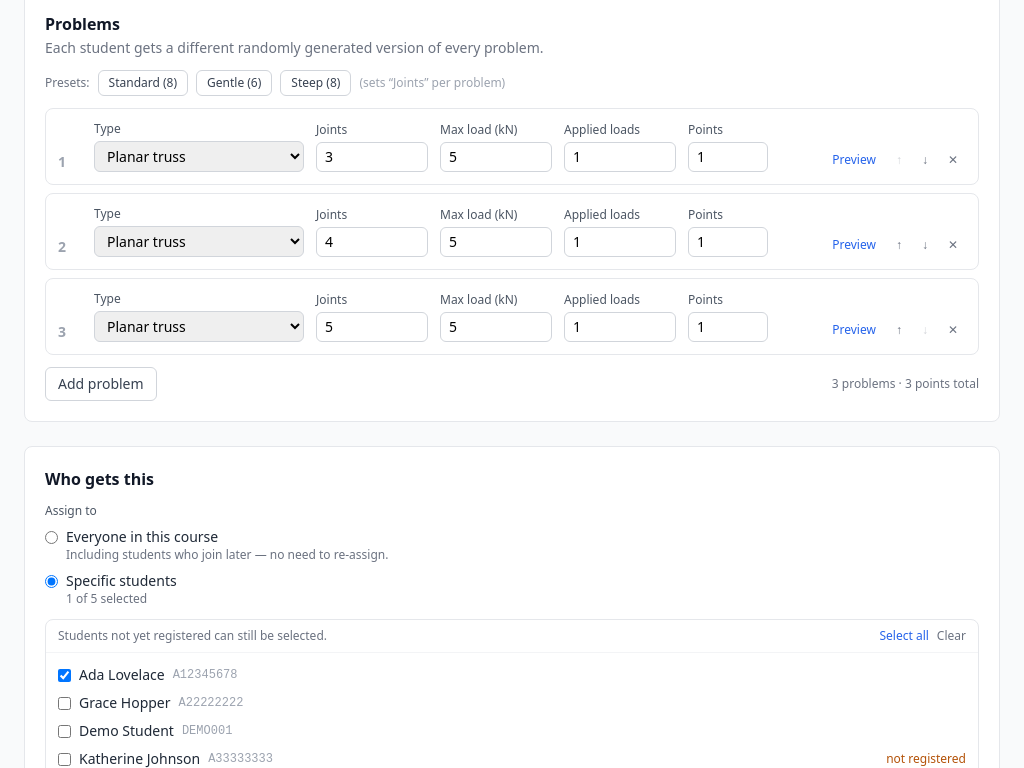
it: assignment builder › adds, reorders and removes a problem slot
(page scrolled)
Expected: the text "3 problems · 3 points total" is shown, [832,376,979,392]
Click the button "Add problem" at (101, 384), box [45,367,157,401]
(page scrolled)
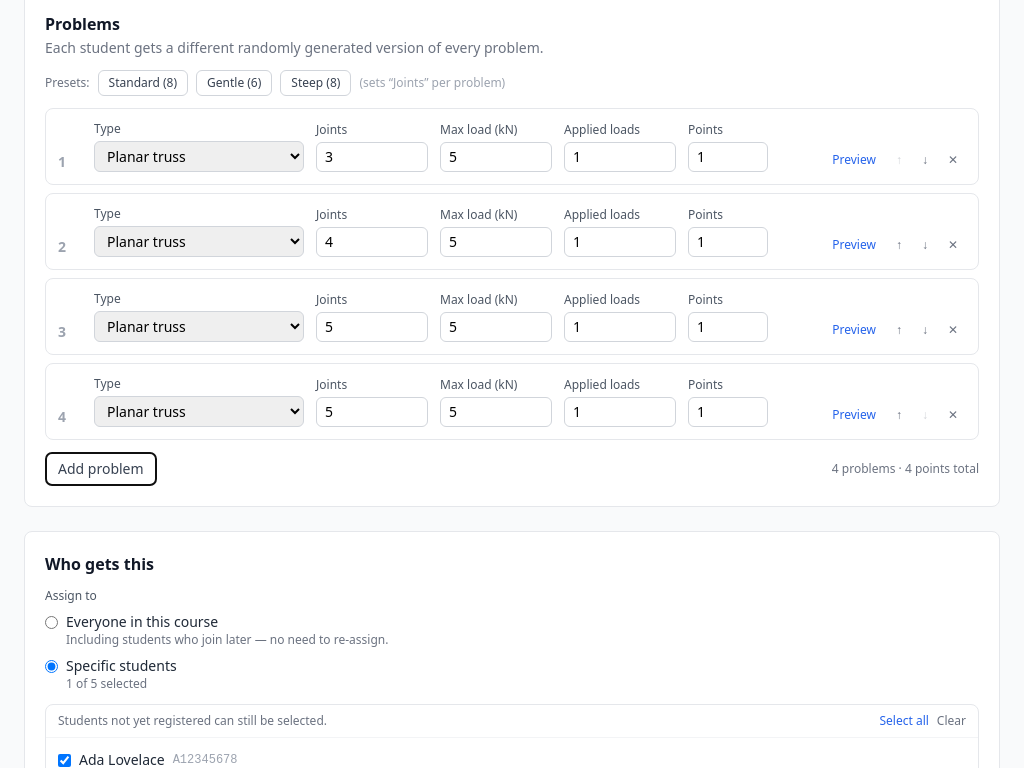
Now the text "4 problems · 4 points total" is shown, box [832,461,979,477]
# Distinguish slot 1 from slot 2 before moving.
Replace the text in the 1st number field labelled "Joints" with "7" at (372, 157), box [316,142,428,172]
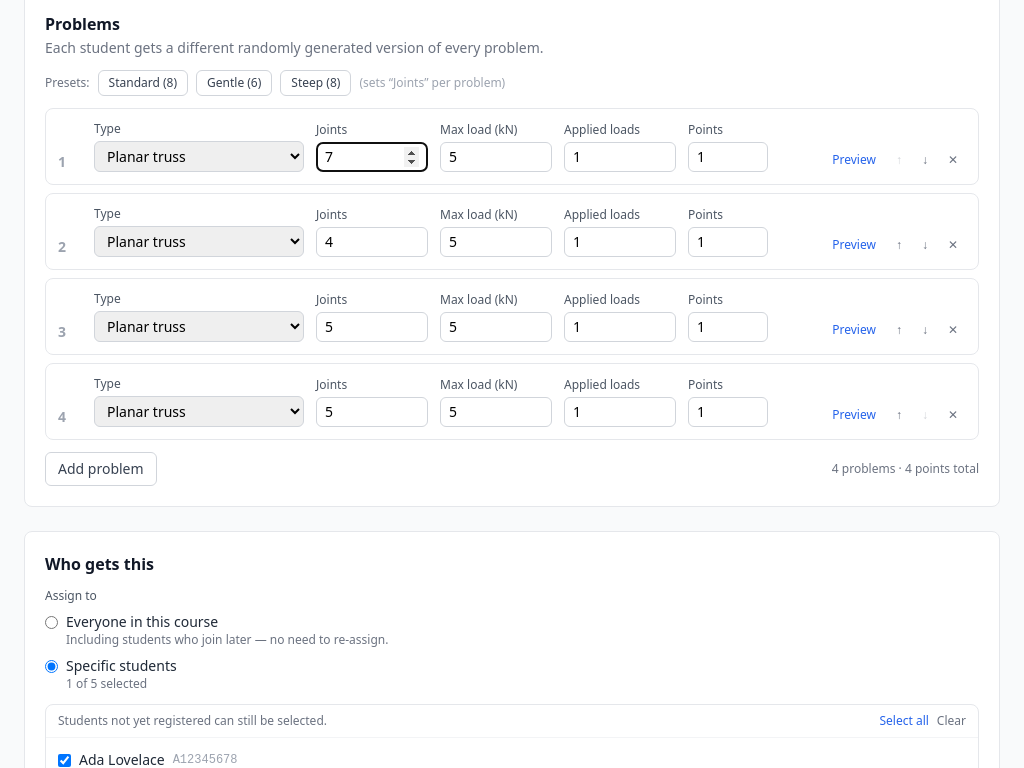
Click the button named "move problem 1 down" at (925, 160), box [914,148,936,172]
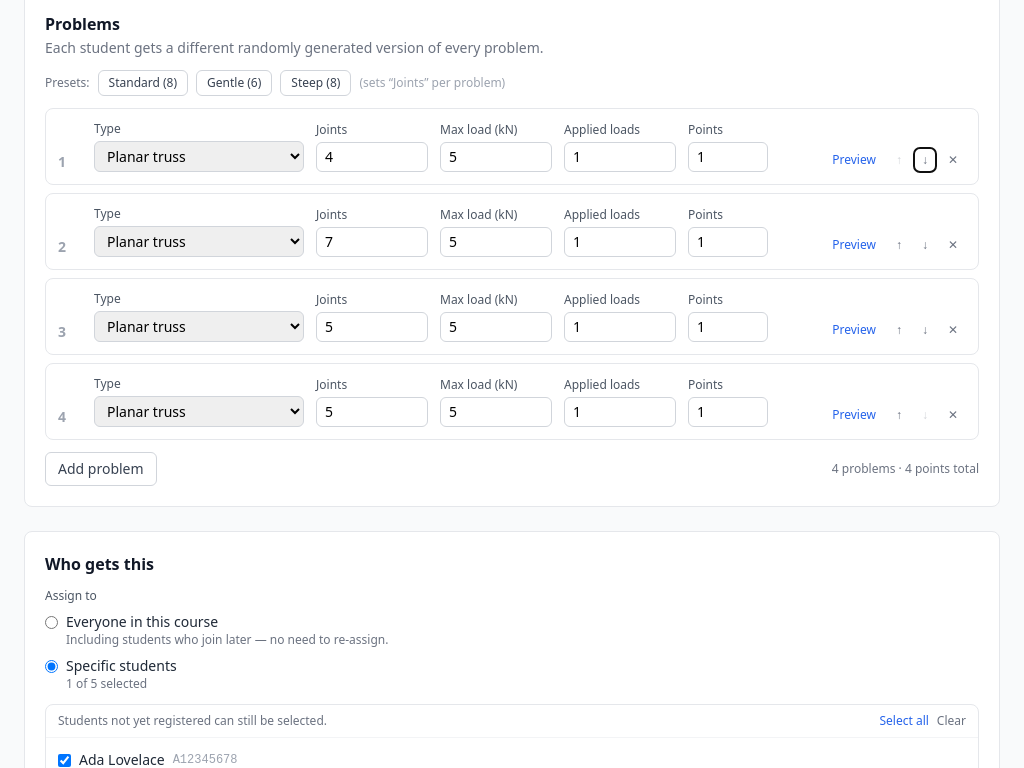
Click the button named "remove problem 4" at (953, 415), box [940,403,966,427]
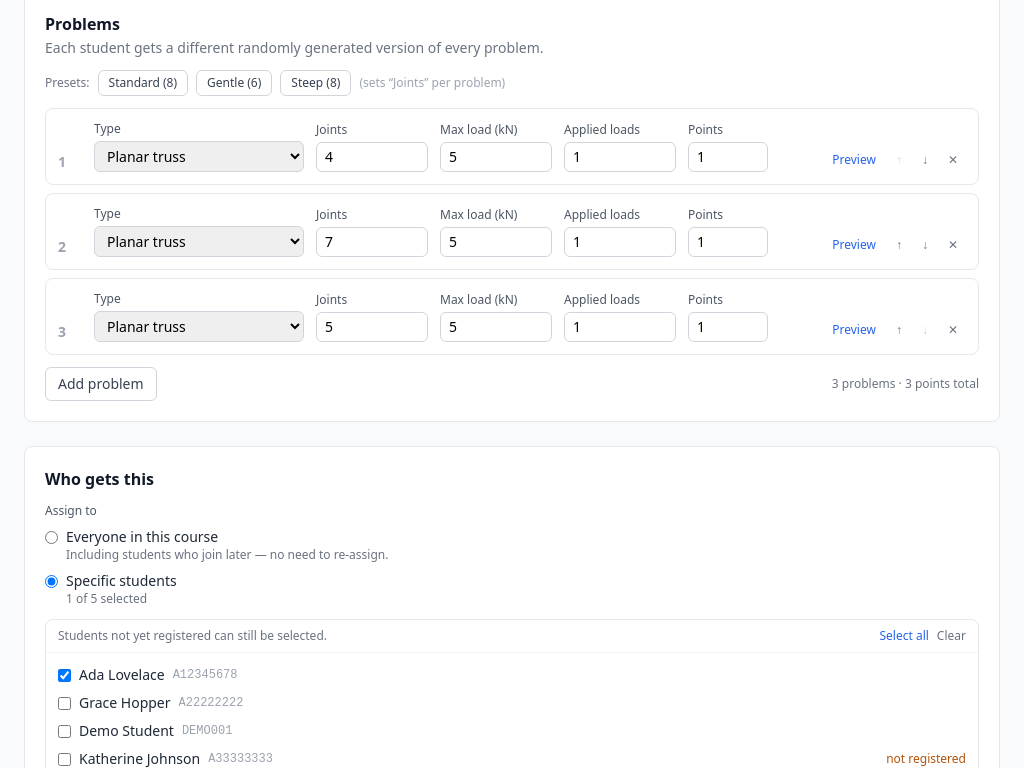
Now the text "3 problems · 3 points total" is shown, box [832,376,979,392]
